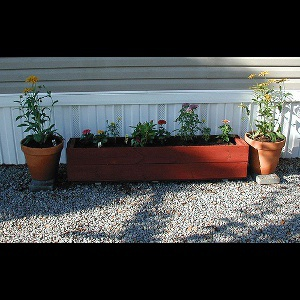flowerpot: (20, 133, 63, 182), (247, 130, 285, 175)
